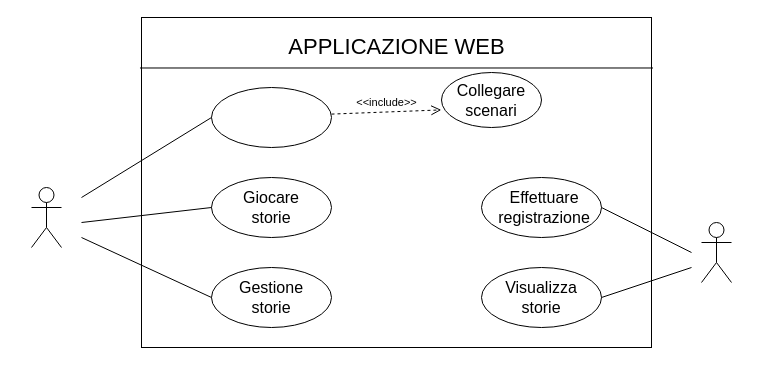
Image size: 775x365. Some labels were removed from this diagram. The shapes that lost their labels are listed below. From the top down, each one's box as (x1, y1, x2, y2) in pixels, then its label:
(210, 86, 332, 148): Scrivere storie
(30, 186, 62, 248): Utente
(700, 222, 732, 282): Visitatore
